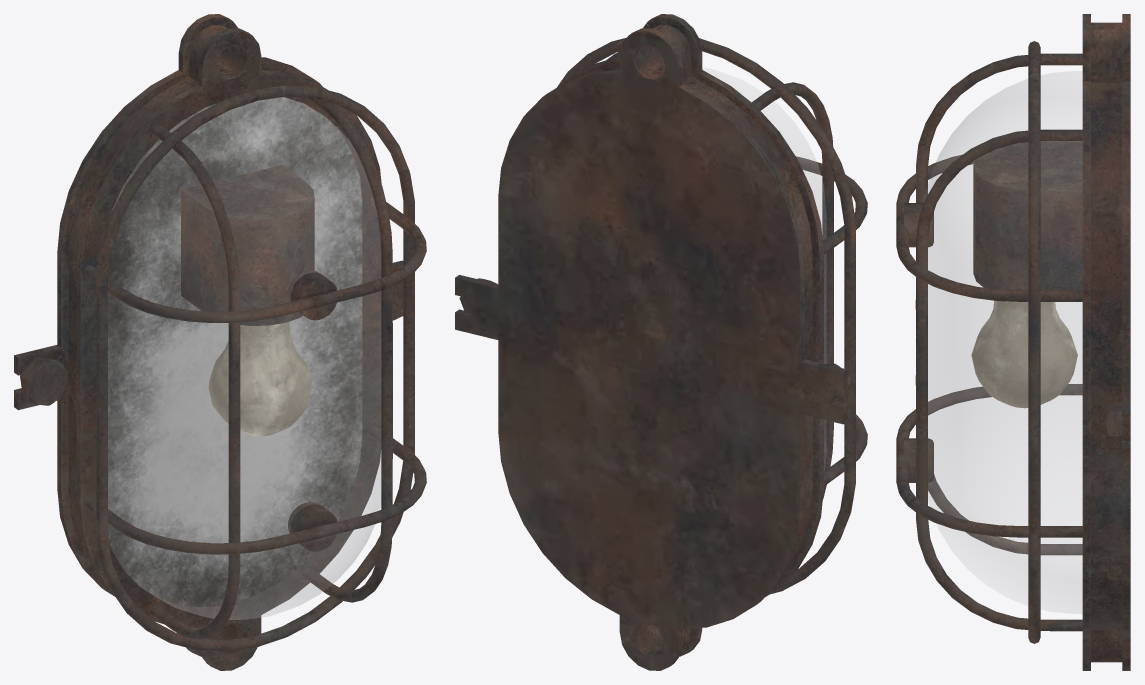
The model's file is industrial_wall_lamp.glb.
3 renders of one model, left to right at view 1: azimuth 30°, elevation 25°; view 2: azimuth 150°, elevation 25°; view 3: azimuth 270°, elevation 25°, orthographic.
Parts seen in each view (by area): view 1: industrial_wall_lamp; view 2: industrial_wall_lamp; view 3: industrial_wall_lamp.
Boxes of the visible parts, bbox=[...] form: industrial_wall_lamp: bbox=[14, 14, 426, 670]; industrial_wall_lamp: bbox=[455, 14, 867, 670]; industrial_wall_lamp: bbox=[896, 14, 1130, 670].
Size of the model in its own units: 0.2734 by 0.4299 by 0.1404.
2 materials, 1 textured.
